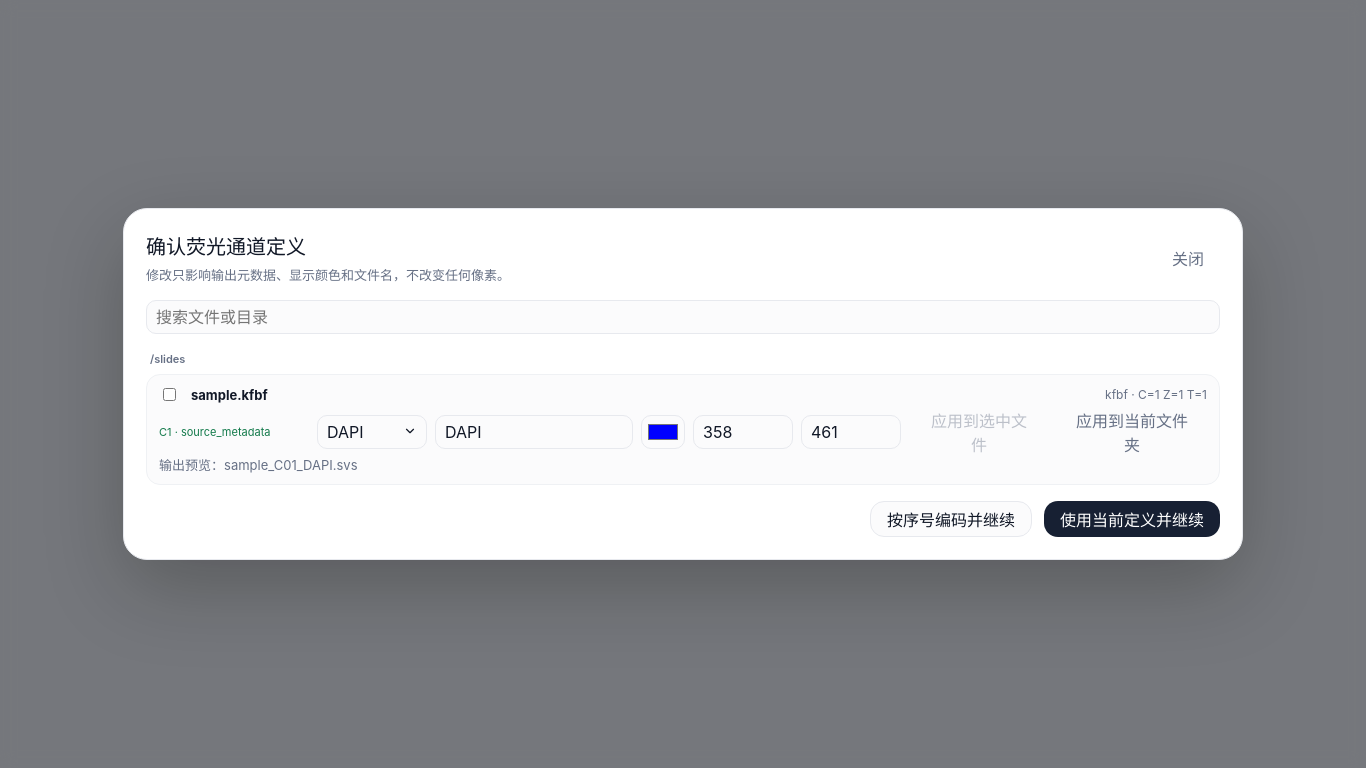
ChannelDialog › keeps custom selected, focuses the name, and can return to a preset
Click the dropdown named "C1 荧光预设" at coordinates (372, 432), box [317, 415, 427, 449]
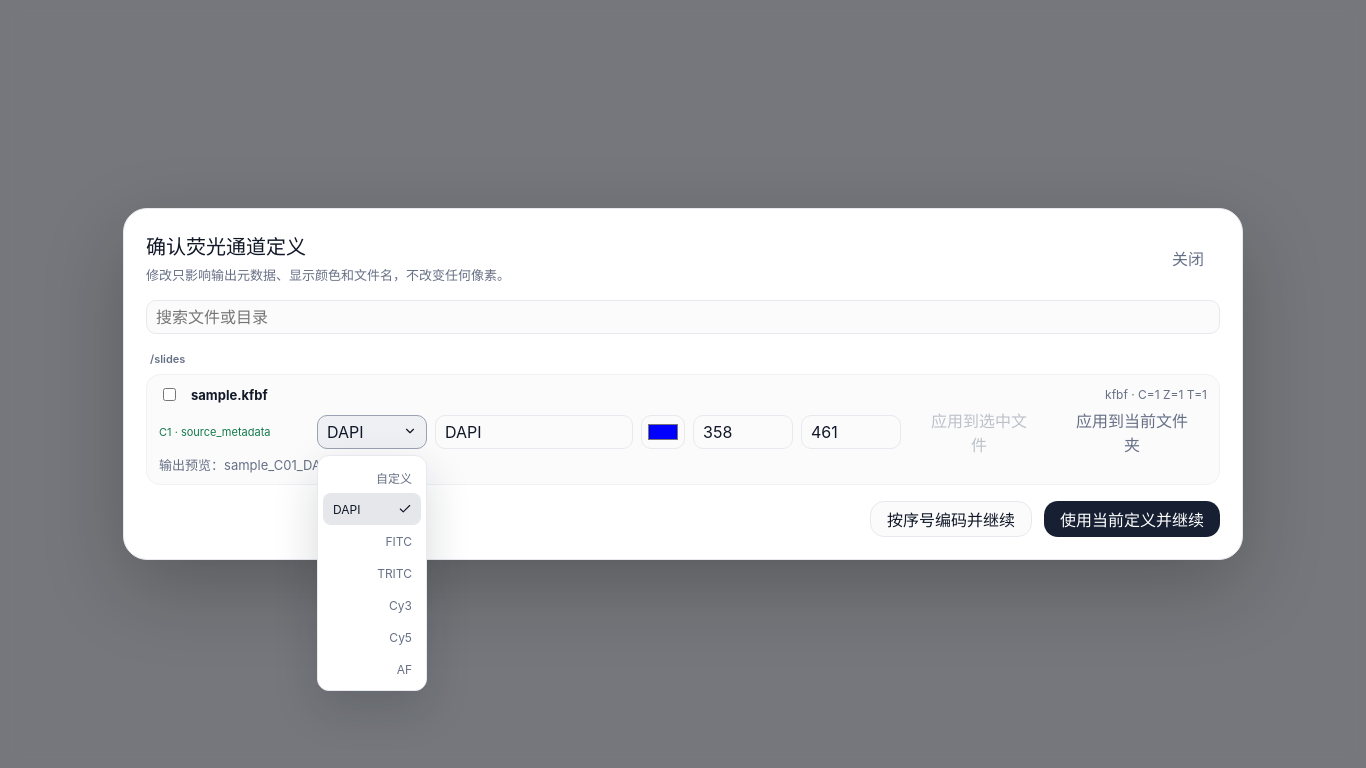
Click the option "自定义" at coordinates (394, 478), box [376, 470, 412, 486]
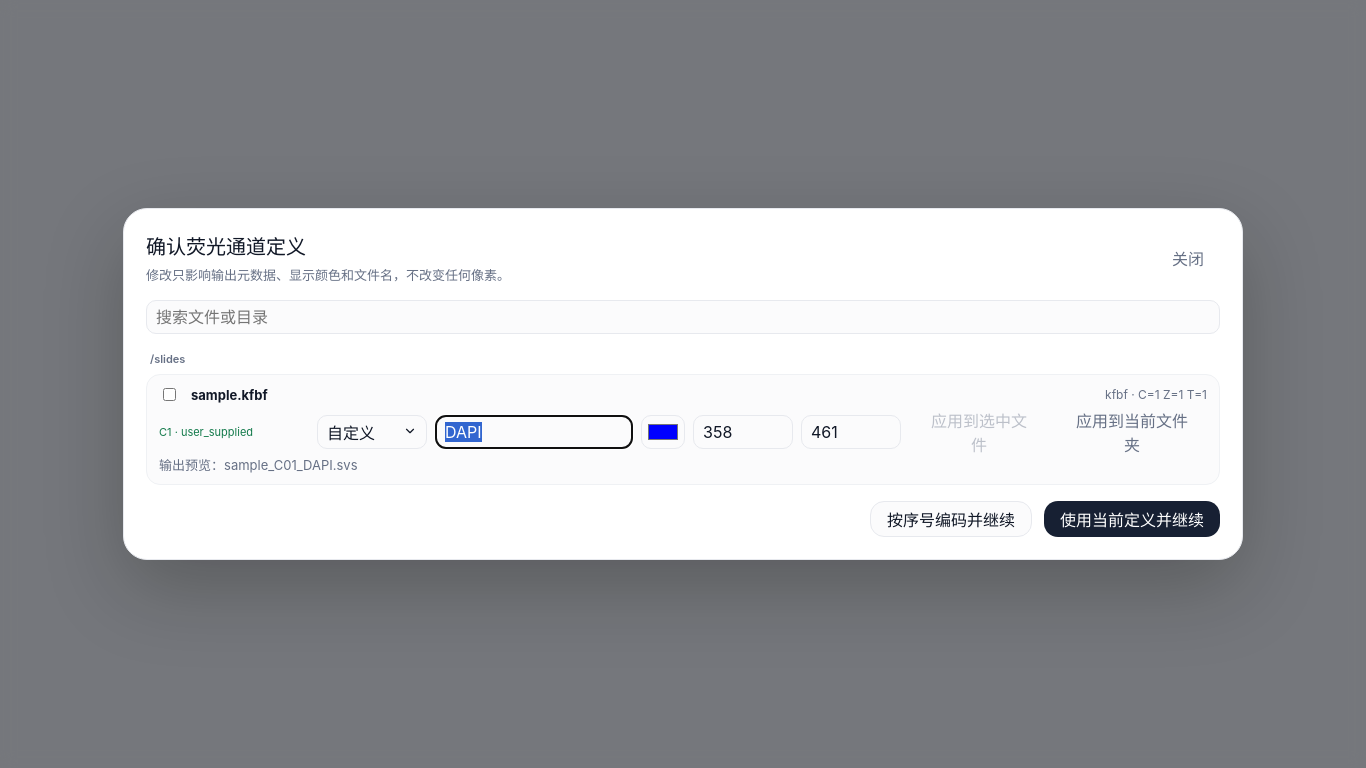
Check: the dropdown named "C1 荧光预设" reads "自定义", box [317, 415, 427, 449]
Replace the text in the field named "通道名称" with "My channel" at coordinates (534, 432), box [435, 415, 633, 449]
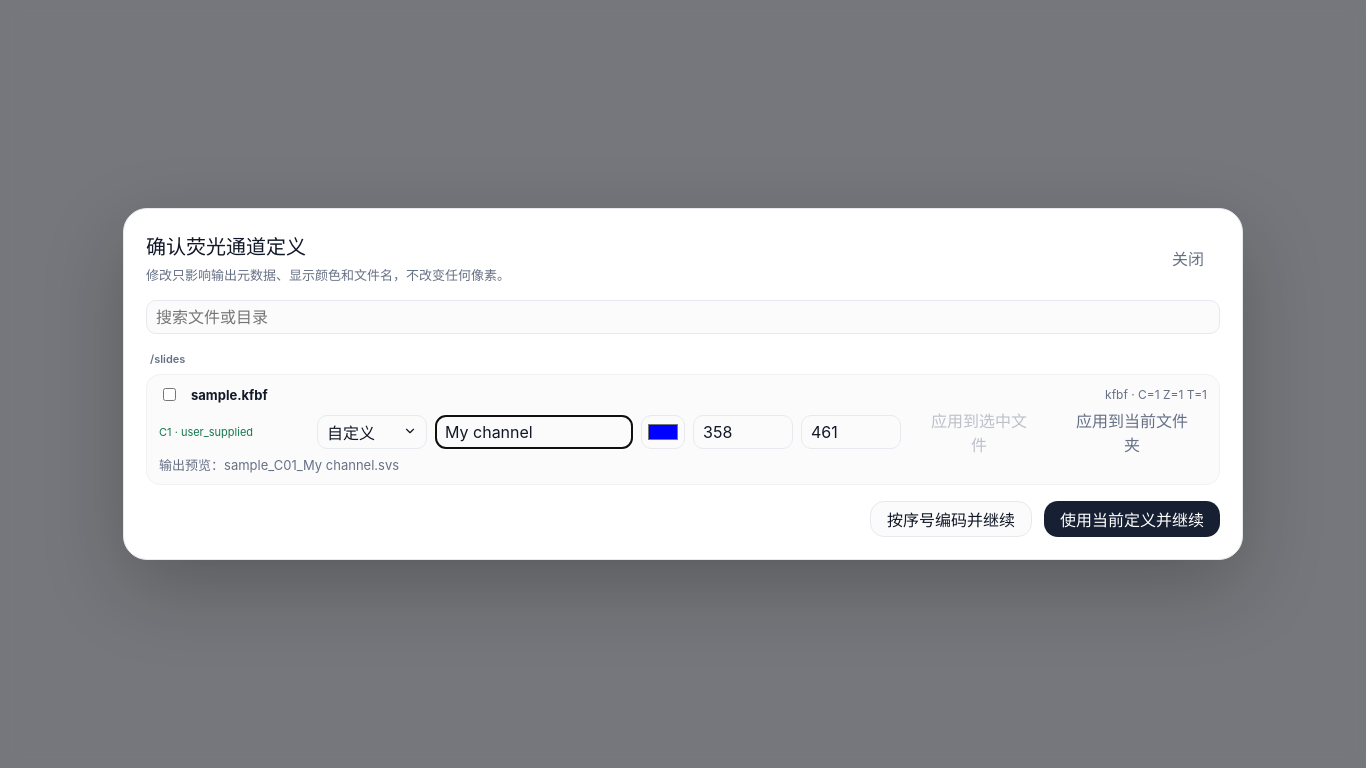
Check: the dropdown named "C1 荧光预设" reads "自定义"
Click the dropdown named "C1 荧光预设" at coordinates (372, 432), box [317, 415, 427, 449]
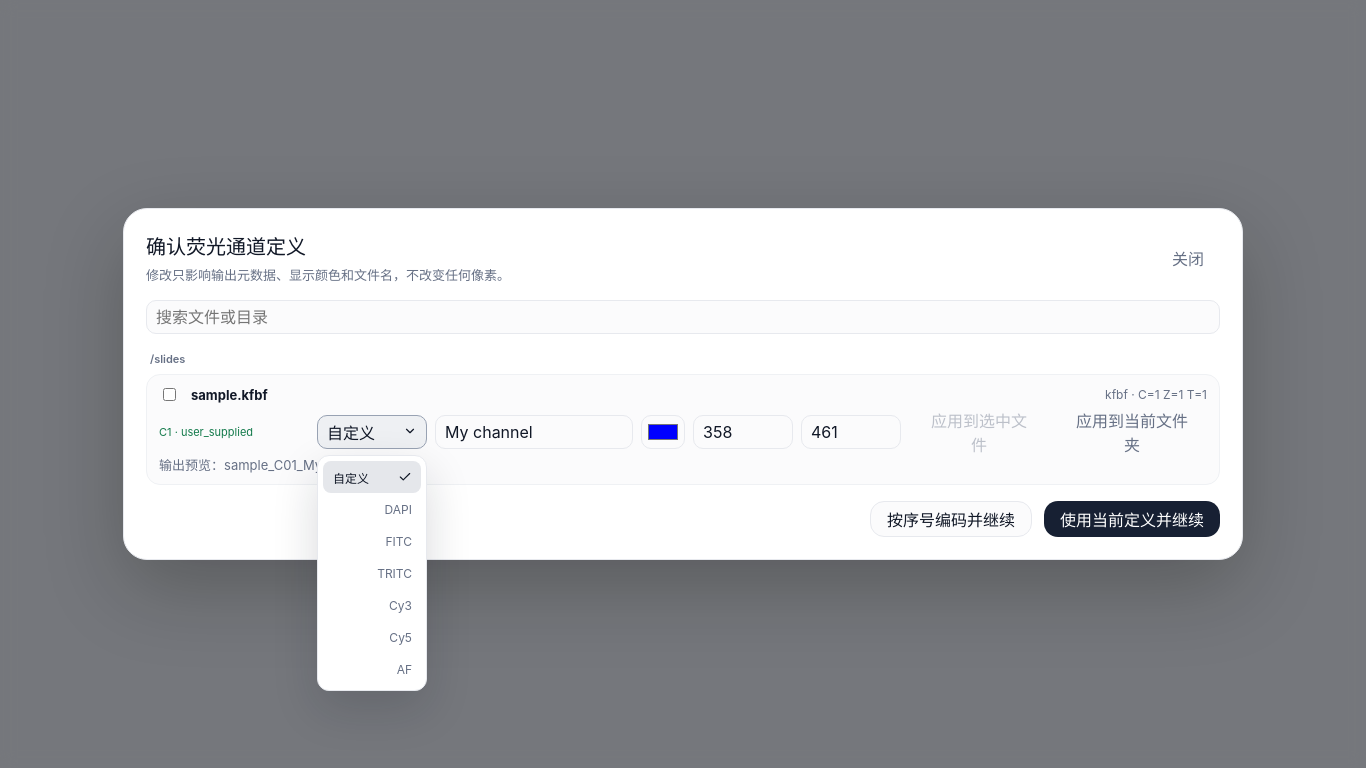
Click the option "FITC" at coordinates (399, 541), box [386, 534, 412, 548]
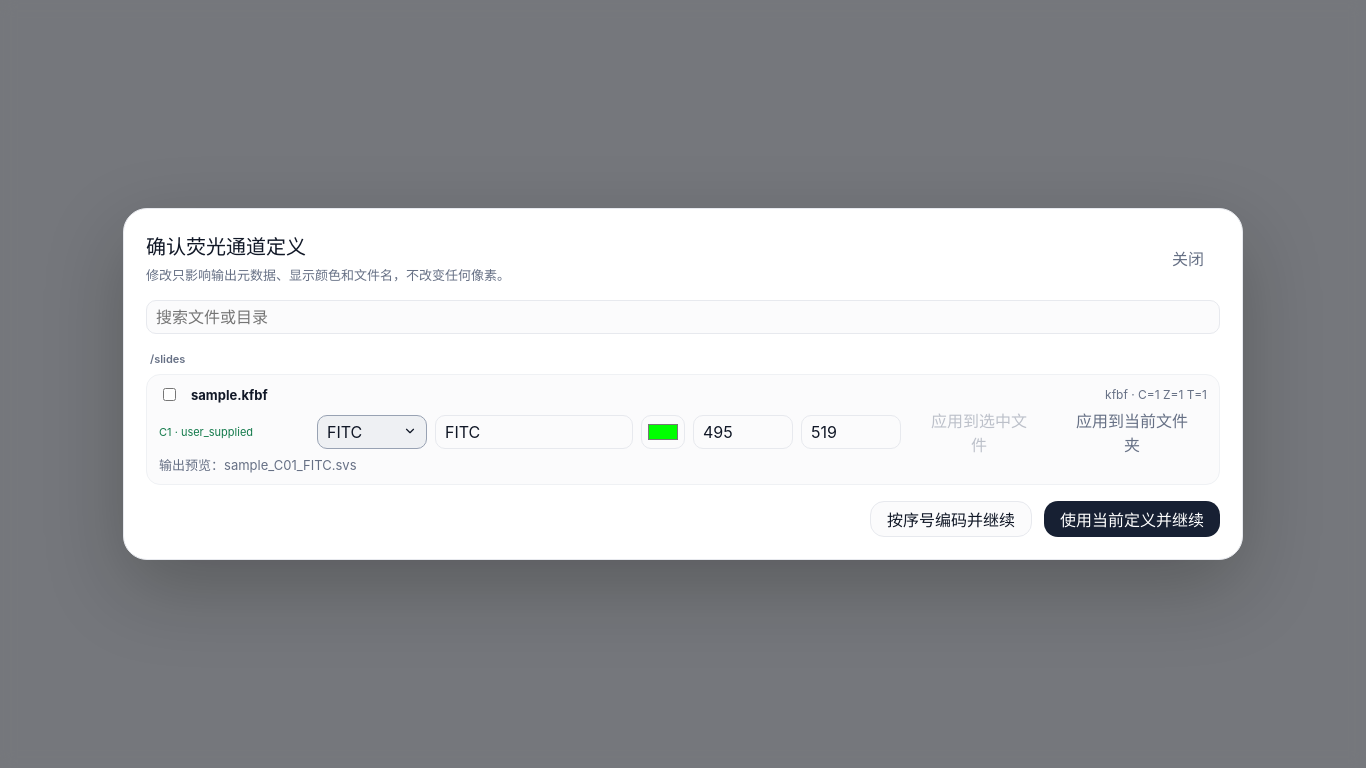
Check: the field named "通道名称" holds "FITC", box [435, 415, 633, 449]
Check: the colour field named "显示色" holds "#00ff00", box [641, 415, 685, 449]
